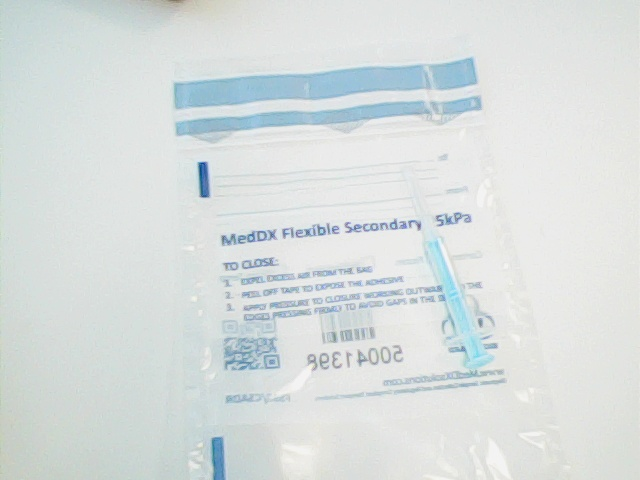syringe: (398, 158, 500, 380)
